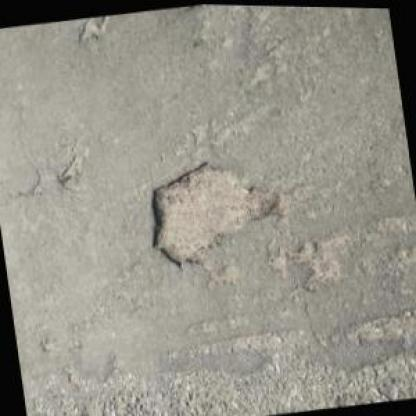pothole: (137, 146, 286, 277), (57, 152, 87, 184)
